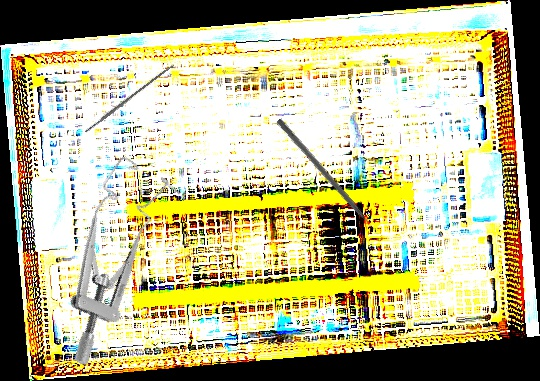Pusher: (275, 118, 381, 238)
Scalpel Handle: (83, 63, 176, 133)
Speculum: (13, 151, 198, 369)
